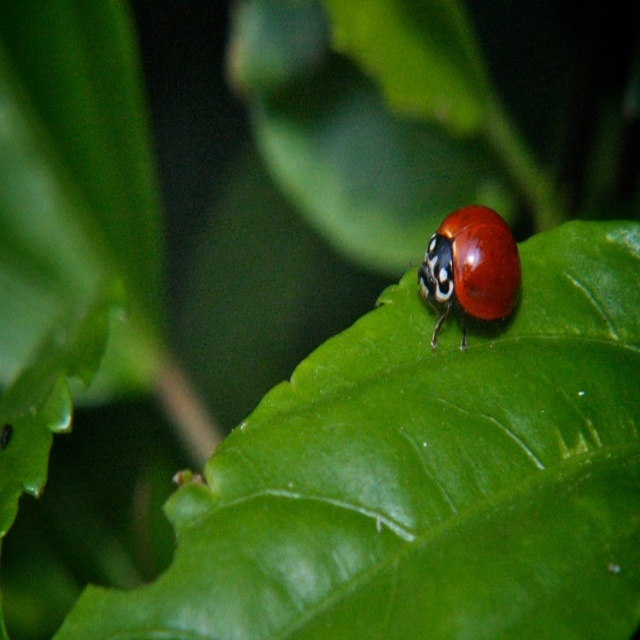Ladybug: (421, 199, 521, 355)
